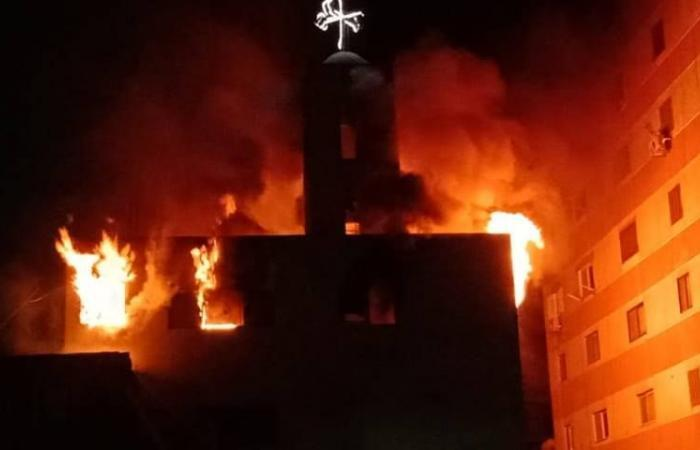fire: (14, 211, 169, 340), (454, 194, 555, 324), (193, 176, 254, 348)
